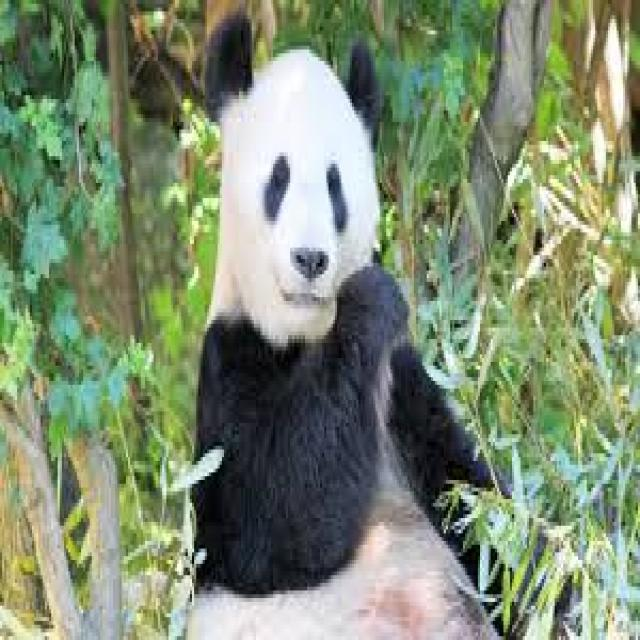Panda: (165, 6, 520, 640)
